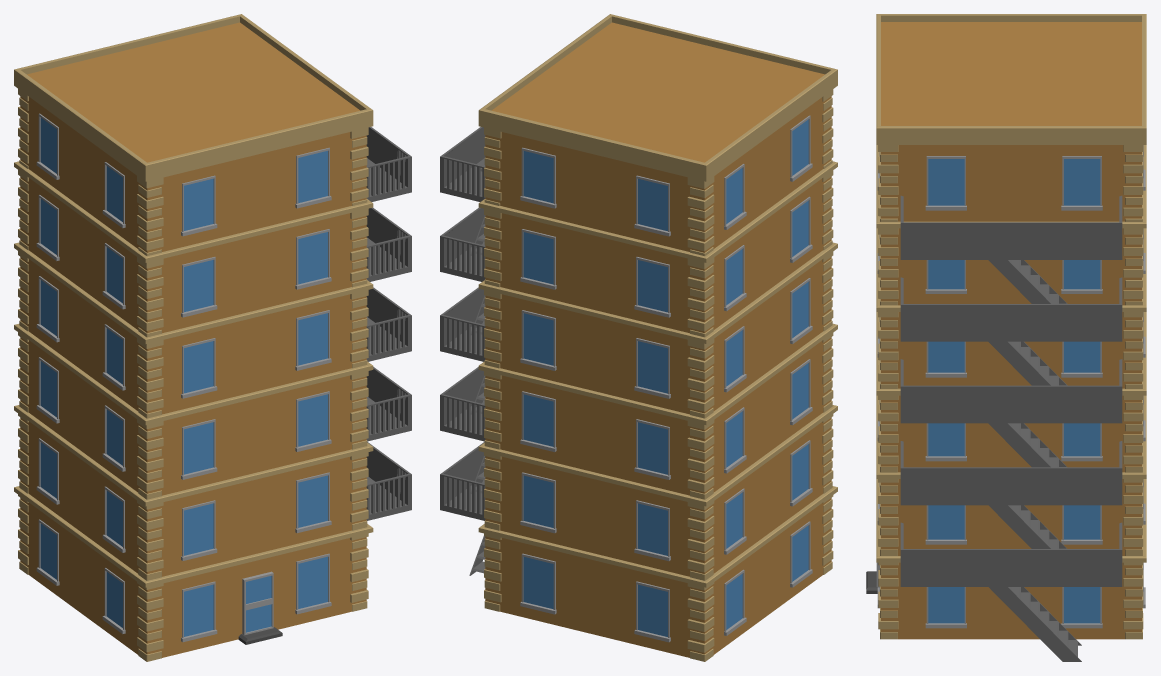
Rendered from GebouwGeel.fbx.
The picture shows the model from 3 angles, left to right: view 1: azimuth 30°, elevation 25°; view 2: azimuth 150°, elevation 25°; view 3: azimuth 270°, elevation 25°; orthographic projection. The views are drawn at different scales.
Visible parts, largest first — view 1: gebouwGeel; view 2: gebouwGeel; view 3: gebouwGeel.
Part boxes in pixels (bbox=[...]): gebouwGeel: bbox=[14, 14, 411, 661]; gebouwGeel: bbox=[440, 14, 837, 661]; gebouwGeel: bbox=[866, 14, 1146, 661].
Size of the model in its own units: 761 by 1304 by 645.
